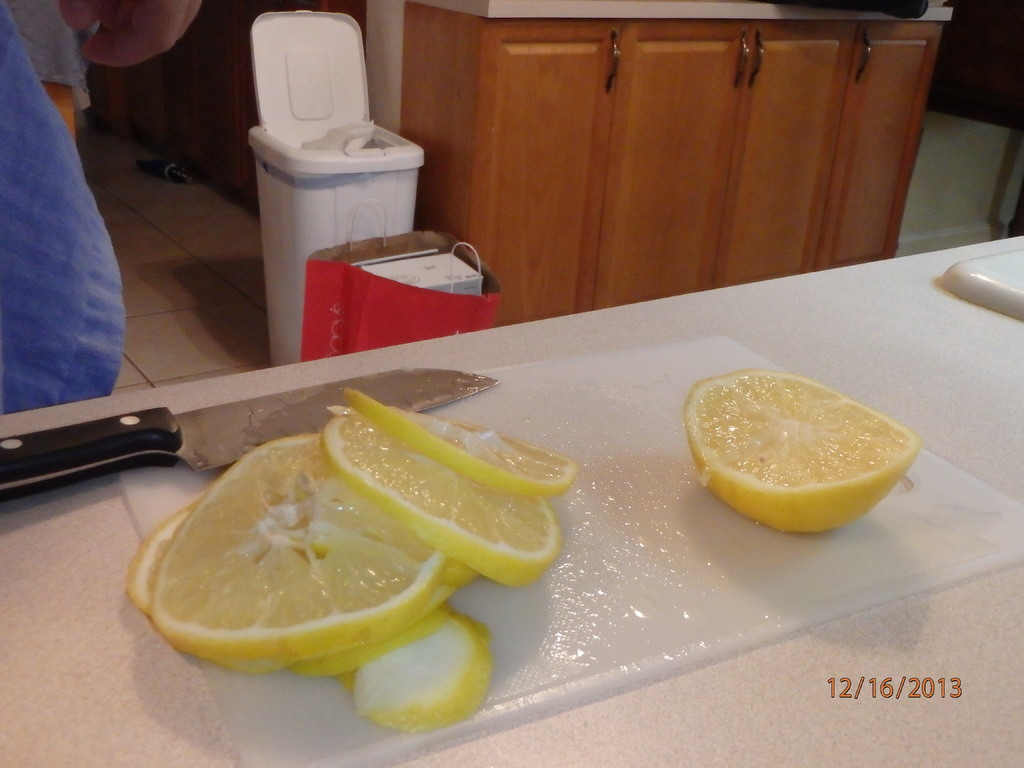person: (0, 0, 143, 417)
